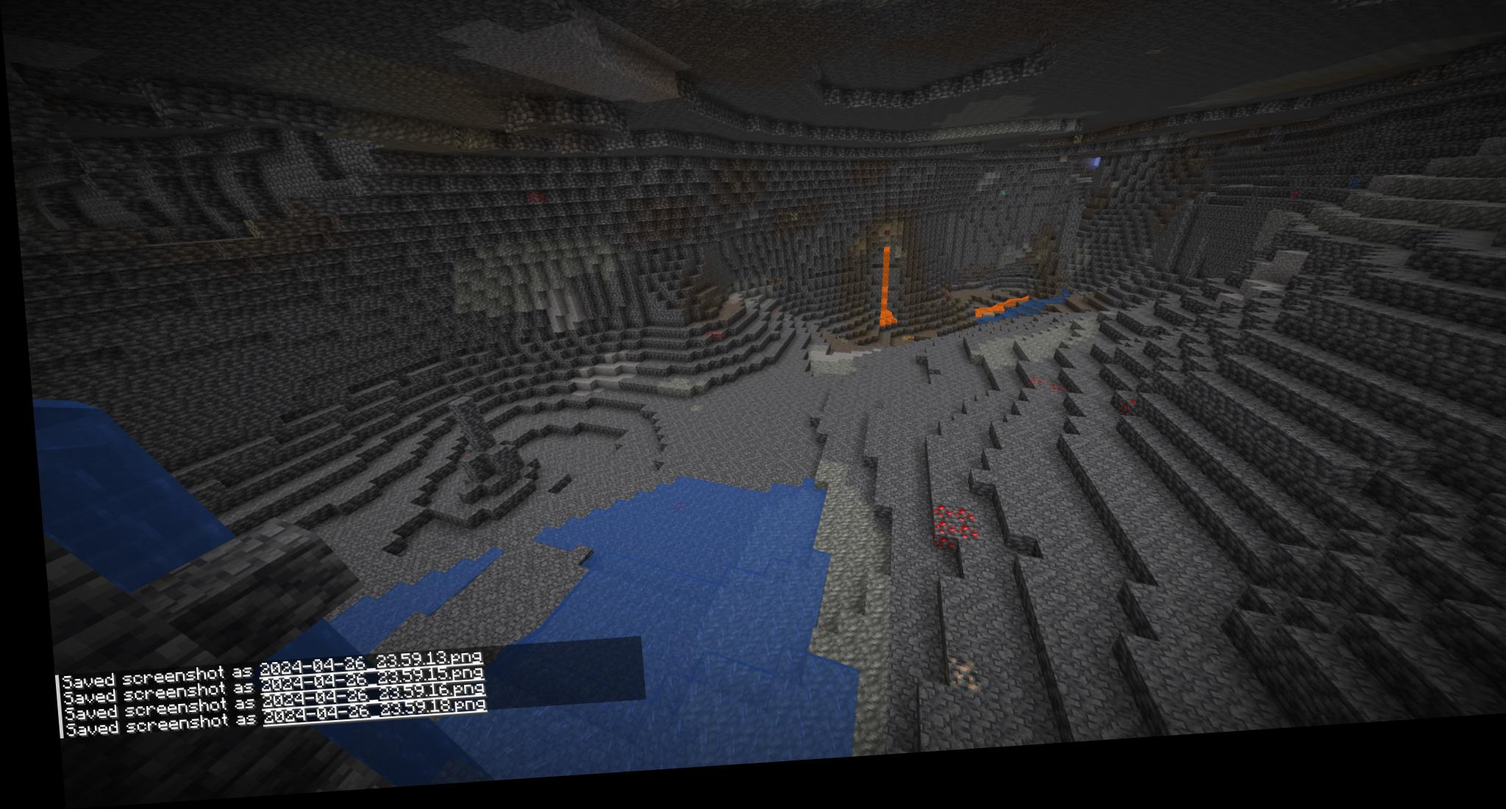iron ore: (922, 664, 976, 710)
redstone ore: (920, 511, 968, 561), (1016, 385, 1057, 412), (516, 192, 547, 218), (1106, 410, 1134, 434), (696, 338, 718, 354)
